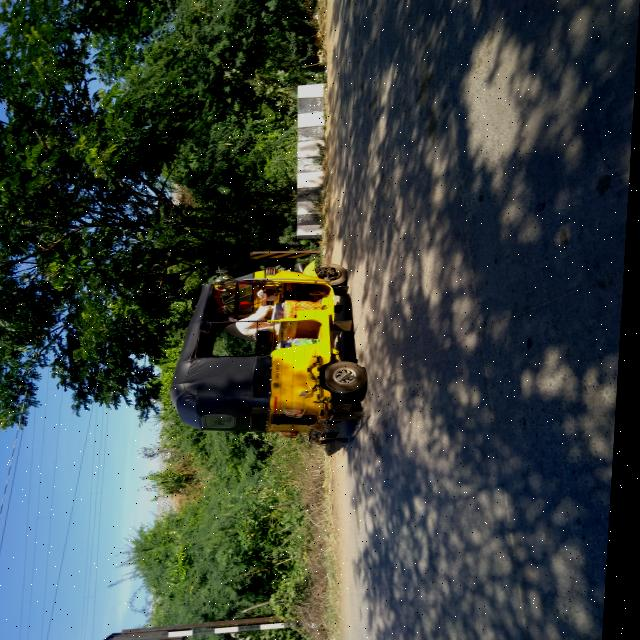plate: (279, 363, 286, 380)
